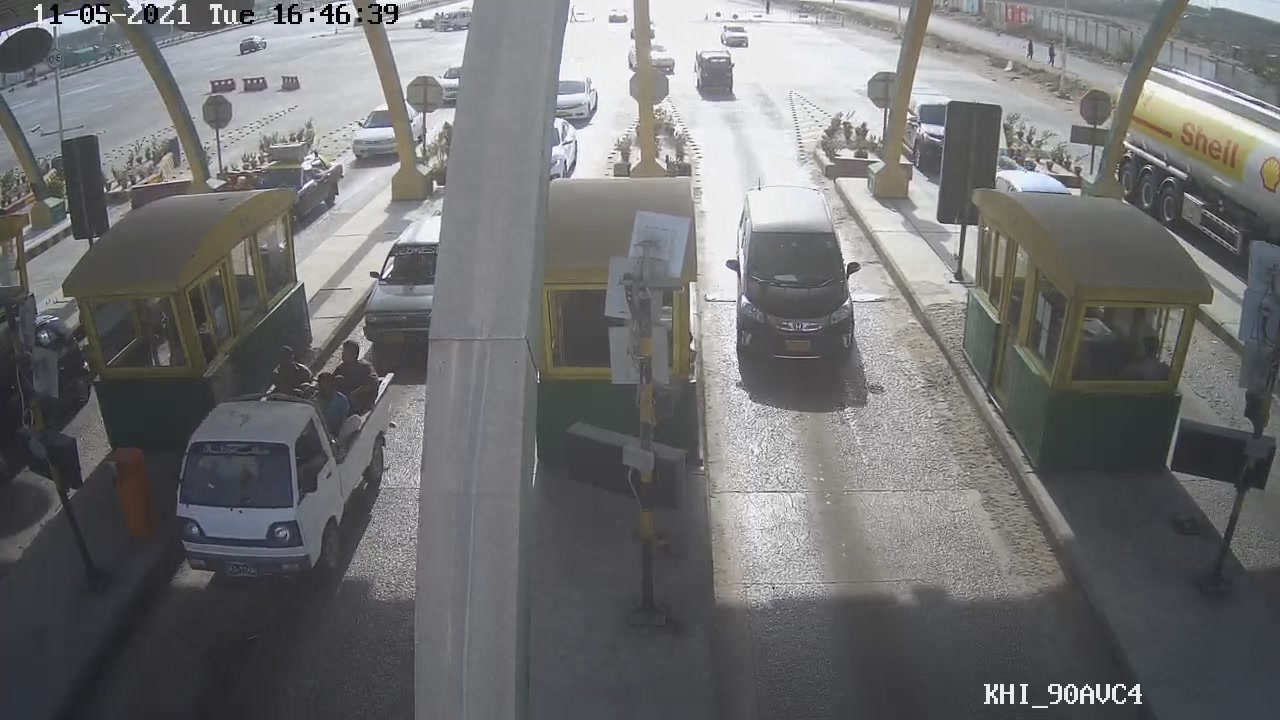F1: (717, 187, 868, 374)
